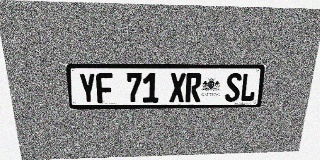1: (142, 73, 158, 103)
7: (125, 73, 142, 103)
F: (96, 73, 114, 103)
L: (239, 73, 257, 102)
R: (185, 73, 202, 102)
S: (224, 73, 242, 102)
X: (169, 73, 186, 102)
Y: (78, 73, 97, 103)
